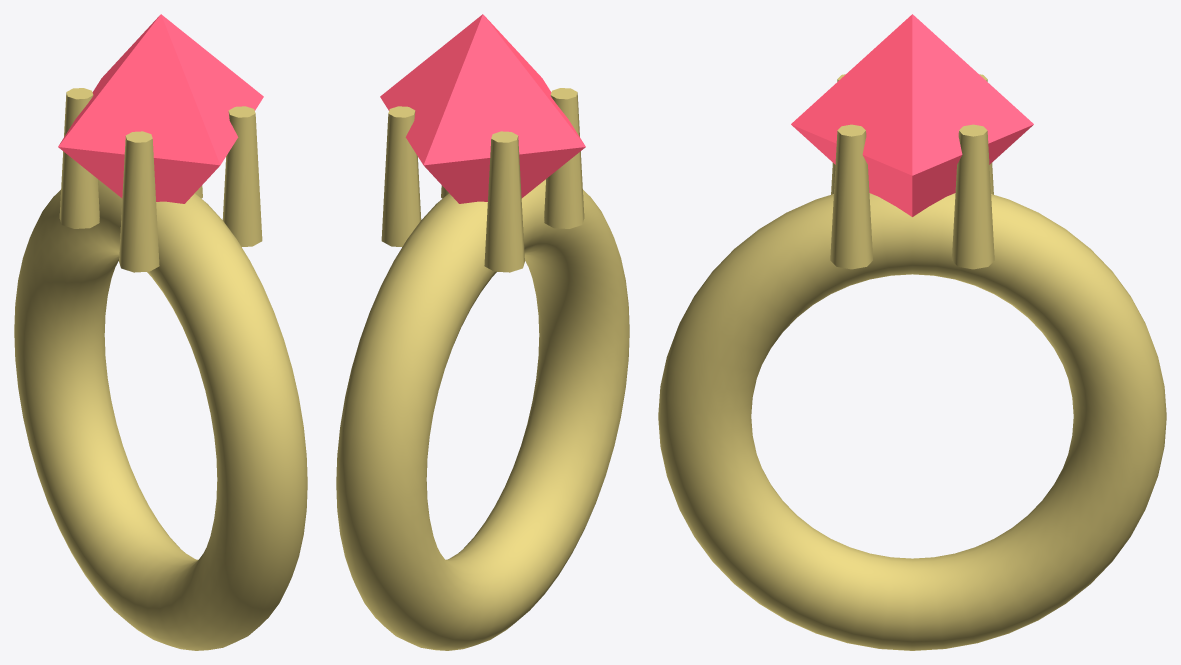
The picture shows the model from 3 angles, left to right: view 1: azimuth 30°, elevation 25°; view 2: azimuth 150°, elevation 25°; view 3: azimuth 270°, elevation 25°; orthographic projection. The views are drawn at different scales.
Visible parts, largest first — view 1: part (×5); view 2: part (×5); view 3: part (×4).
Part boxes in pixels (x1=…): part (×5): x1=14, y1=14, x2=307, y2=650; part (×5): x1=336, y1=14, x2=629, y2=650; part (×4): x1=658, y1=14, x2=1166, y2=650.
Bounding box in the file's own units: 0.068 × 0.195 × 0.142.
